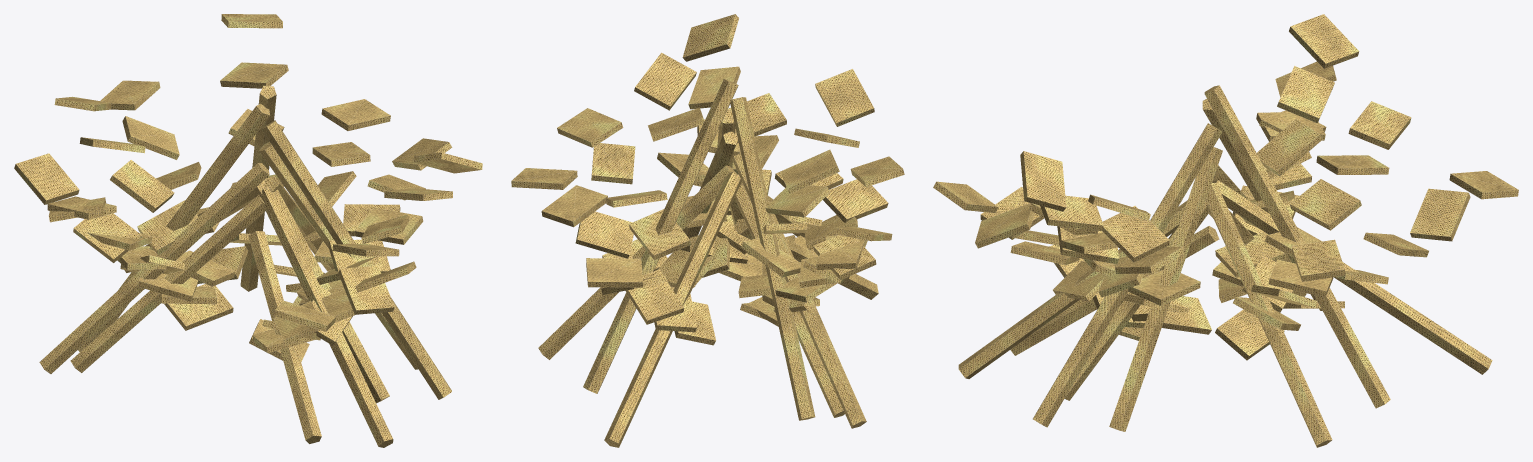
File: desert-bush.glb
3 renders of one model, left to right at view 1: azimuth 30°, elevation 25°; view 2: azimuth 150°, elevation 25°; view 3: azimuth 270°, elevation 25°, orthographic. The views are drawn at different scales.
Parts seen in each view (by area): view 1: desert-bush; view 2: desert-bush; view 3: desert-bush.
Boxes of the visible parts, box(x1,y1,x2,y2) form: desert-bush: box(14, 14, 482, 447); desert-bush: box(511, 14, 904, 447); desert-bush: box(933, 14, 1518, 447).
Size of the model in its own units: 0.7547 by 0.5576 by 0.997.
1 material, 1 textured.
